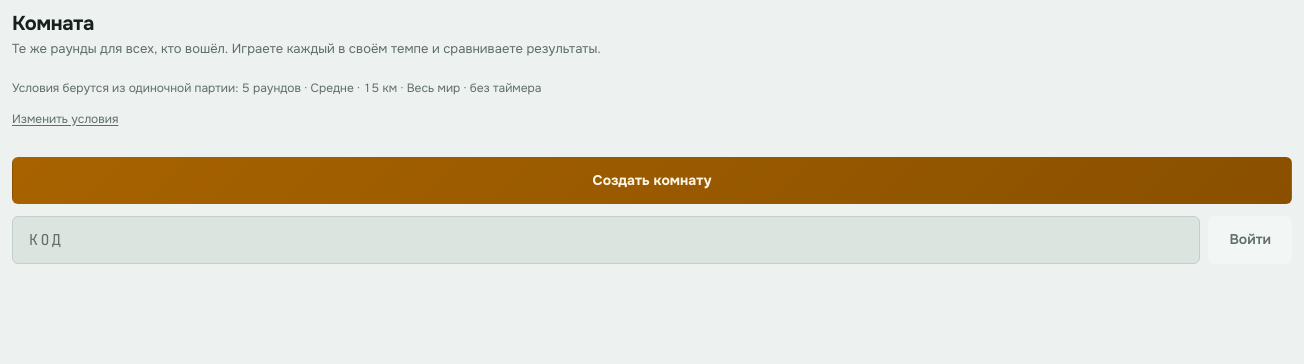
MatchRoom › созданная комната показывает код и условия
This screenshot has width=1304, height=364.
Step 1. Click the button "Создать комнату" → click(652, 180), box [12,156,1292,204]
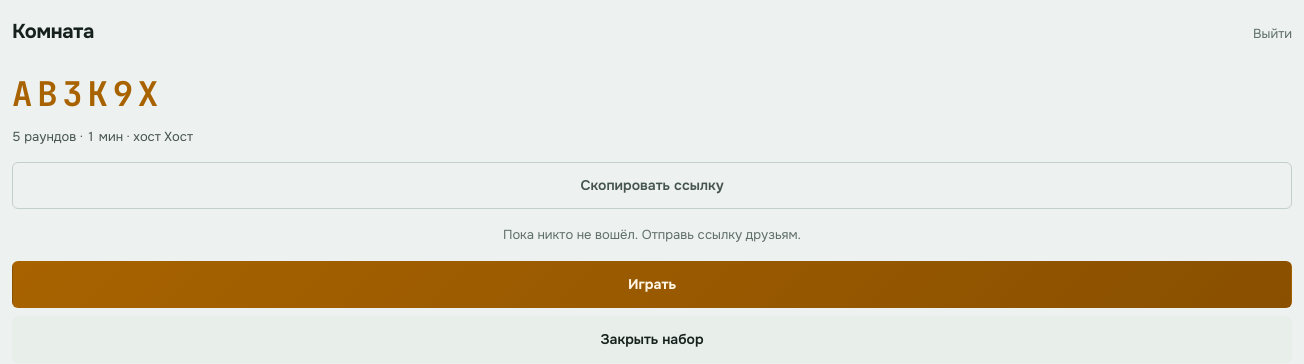
Expected: the text "AB3K9X" is shown, [12,70,163,116]
Expected: the text "5 раундов · 1 мин · хост Хост" is shown, [12,128,193,144]
